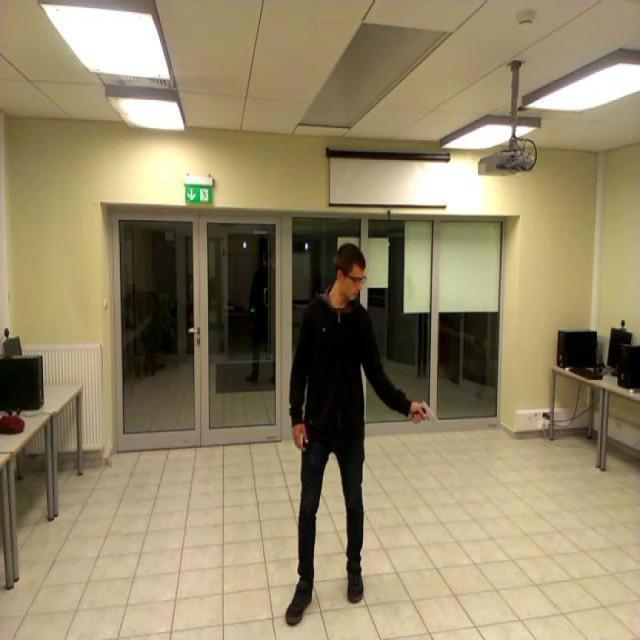pistol: (413, 400, 441, 426)
